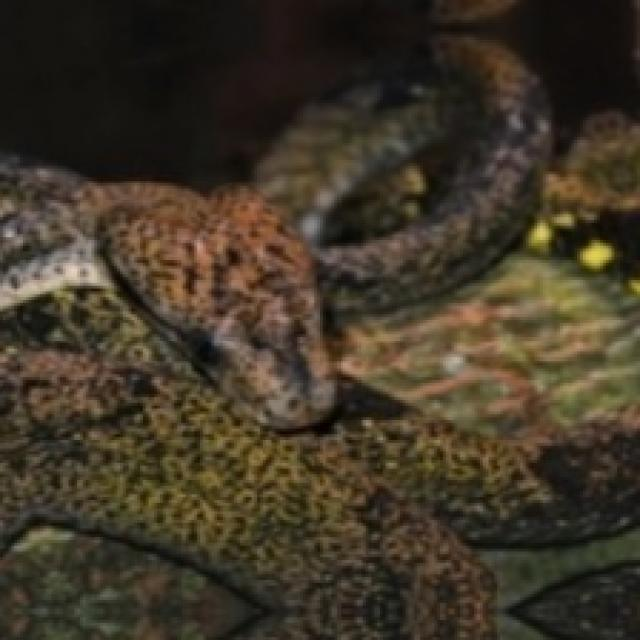dog-toothed cat snake: (0, 0, 549, 429), (34, 140, 340, 434), (0, 163, 94, 303)
